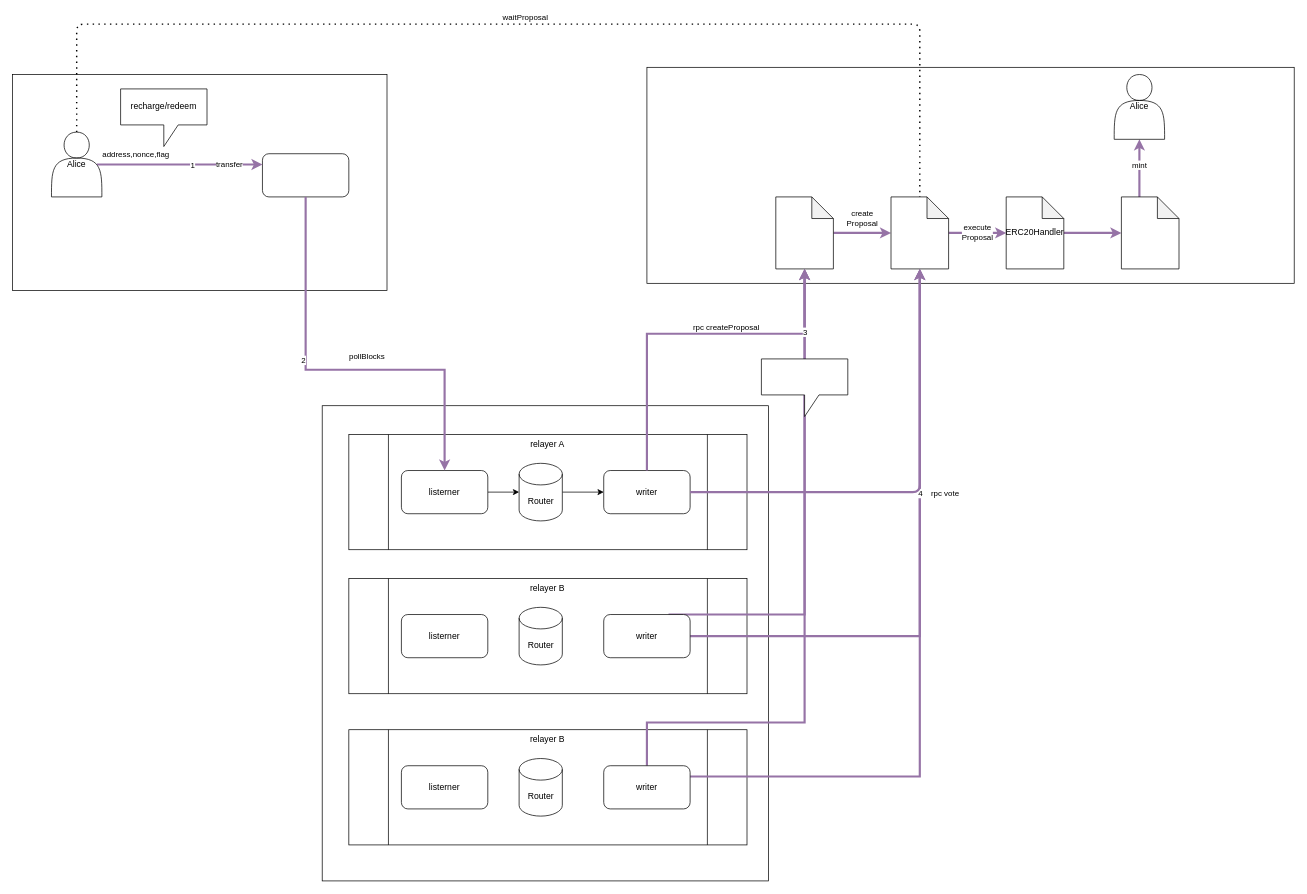
Image size: 1307x894. Some labels were removed from this diagram. Here are the shapes that lost their labels. From the top down, the box of each, then its label:
(12, 74, 387, 291): KUSAMA
(262, 153, 349, 197): MultiSignAddress
(646, 67, 1294, 283): PlatON
(775, 196, 833, 269): Bridge
(890, 196, 949, 269): Proposal
(1121, 196, 1179, 269): Erc20
(761, 358, 848, 417): createProposalEvent
